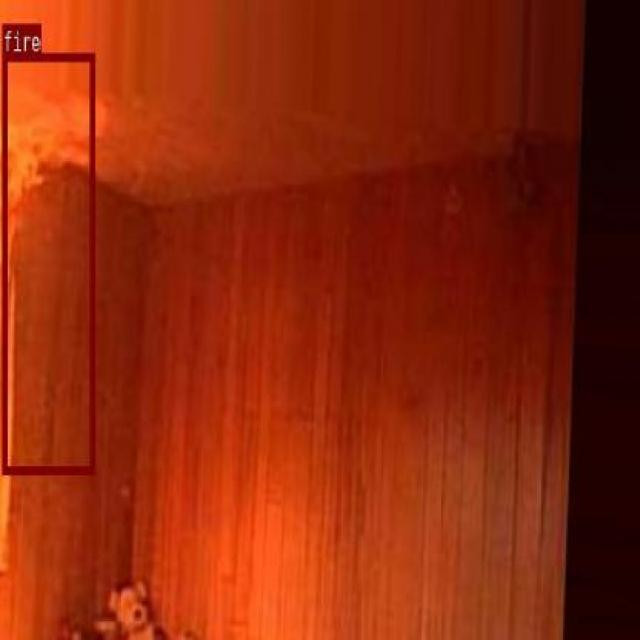Fire: (1, 52, 94, 472)
